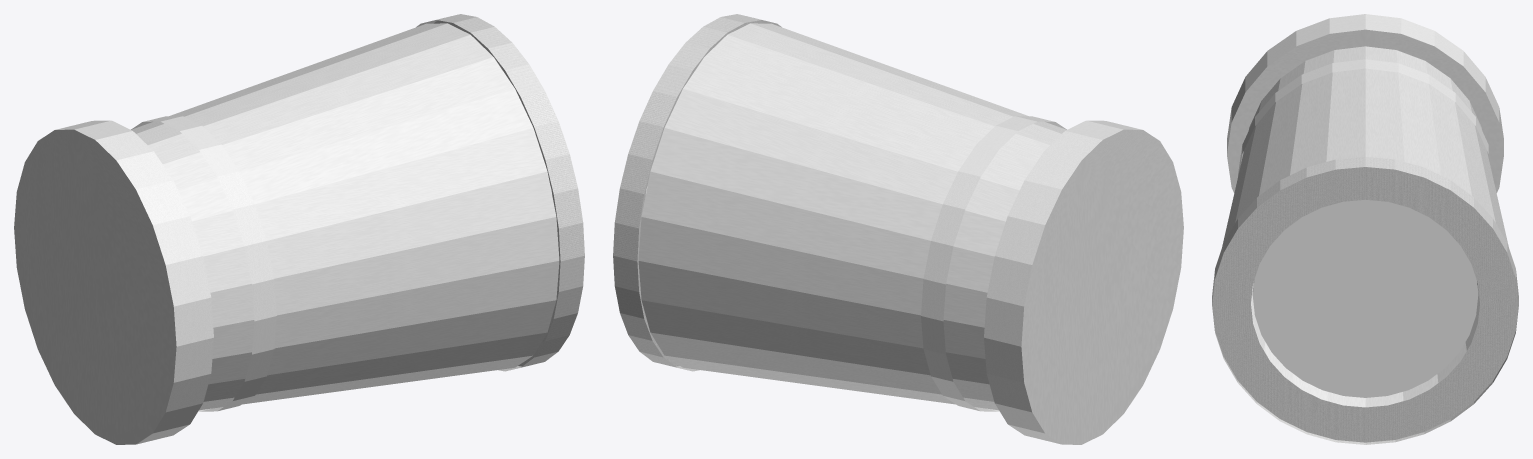
The model's file is minidotspotlight.obj.
The picture shows the model from 3 angles, left to right: view 1: azimuth 30°, elevation 25°; view 2: azimuth 150°, elevation 25°; view 3: azimuth 270°, elevation 25°; orthographic projection. The views are drawn at different scales.
Visible parts, largest first — view 1: Metal, Base, Trim; view 2: Metal, Base, Trim; view 3: Light0, Trim, Metal, Base.
Boxes of the visible parts, x1,y1,x2,y2 form: Metal: (131, 23, 559, 411); Base: (14, 120, 213, 444); Trim: (416, 14, 584, 371); Metal: (638, 23, 1066, 411); Base: (984, 120, 1183, 444); Trim: (613, 14, 781, 371); Light0: (1252, 199, 1478, 397); Trim: (1212, 157, 1518, 444); Metal: (1222, 46, 1508, 407); Base: (1227, 14, 1503, 192).
Bounding box in the file's own units: 0.213 × 0.166 × 0.166.
